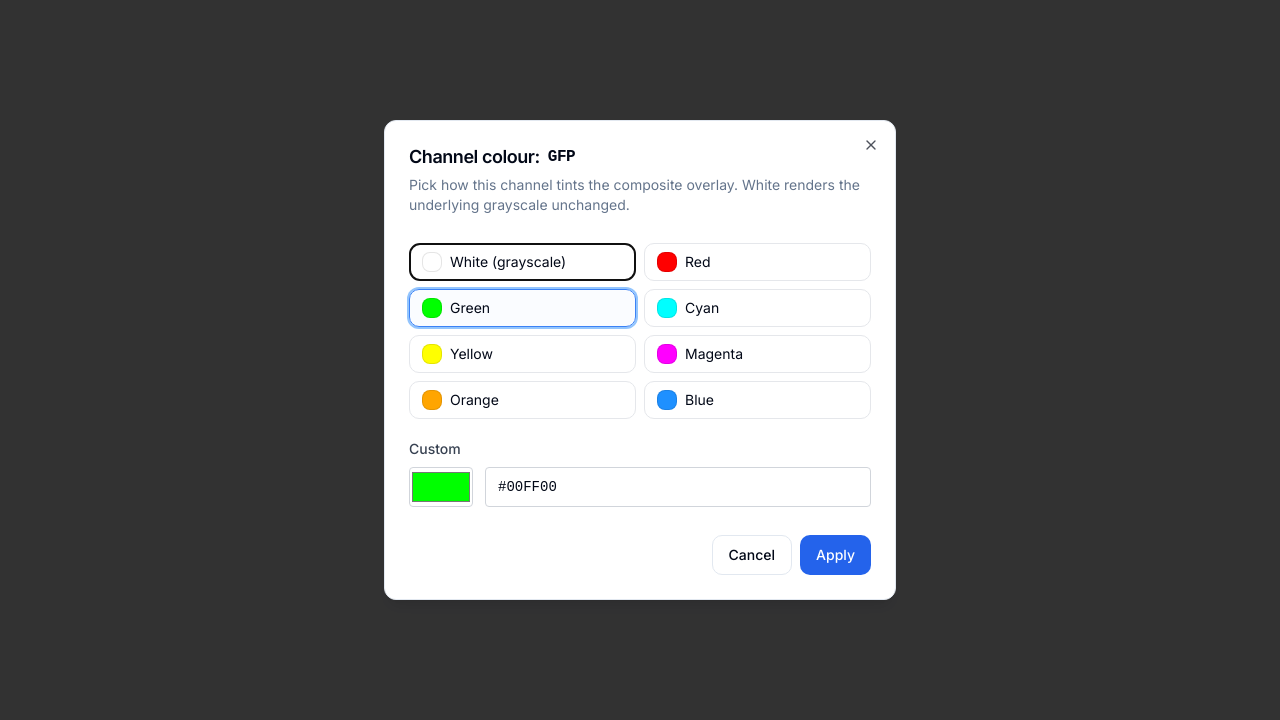
ChannelColorDialog › preset color buttons › clicking a preset updates the selection ring
Note: Click Red
Click the button "Red": (758, 262) [644,243,871,281]
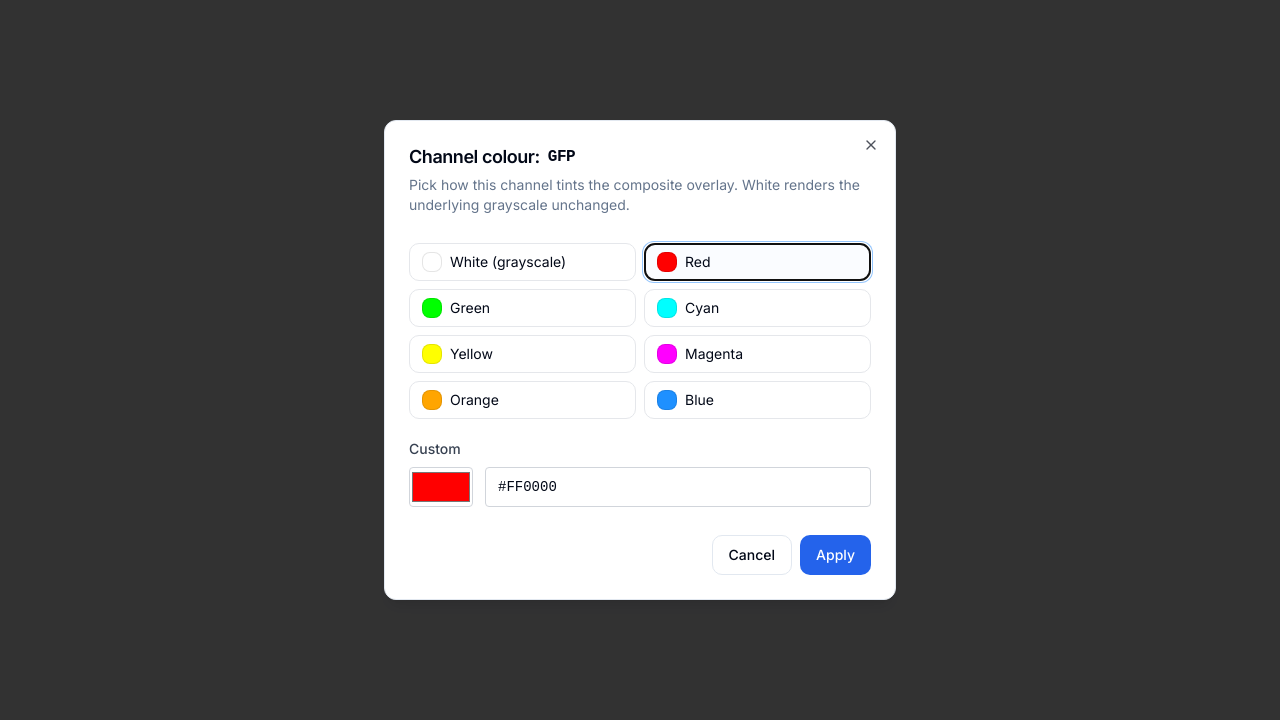
Result: the button "Red" has class "ring-2" at [644,243,871,281]
